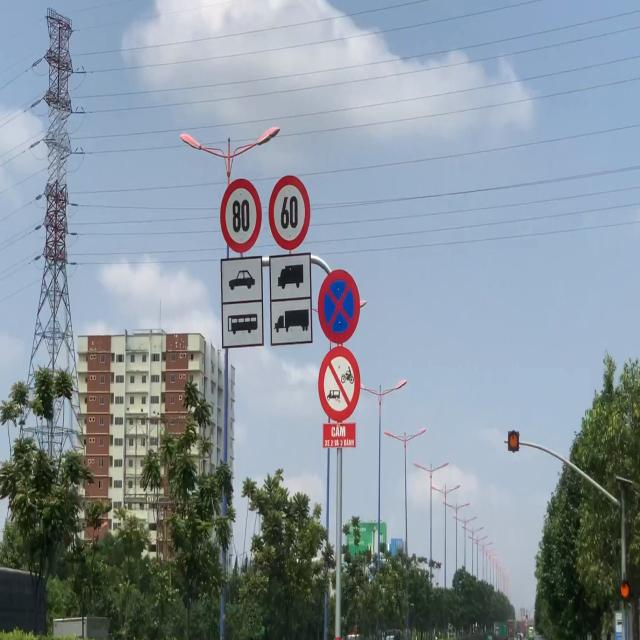Cam dung va do: (317, 268, 361, 345)
Toc do toi da: (219, 177, 263, 254), (268, 174, 311, 251)
